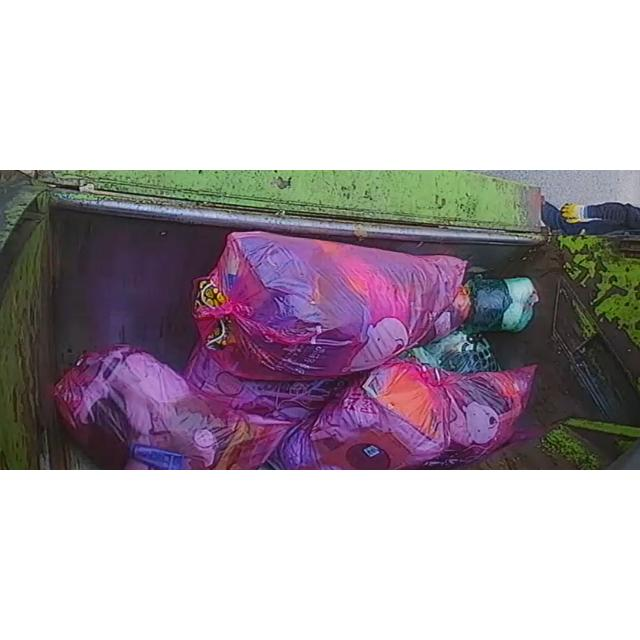general_trashbag: (466, 275, 539, 332)
other_trashbag: (194, 231, 471, 381), (54, 345, 290, 469), (269, 359, 535, 469)
